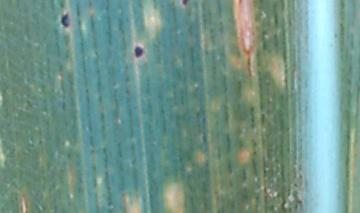tarspot: (133, 44, 145, 59), (61, 13, 70, 29), (181, 1, 189, 7)
